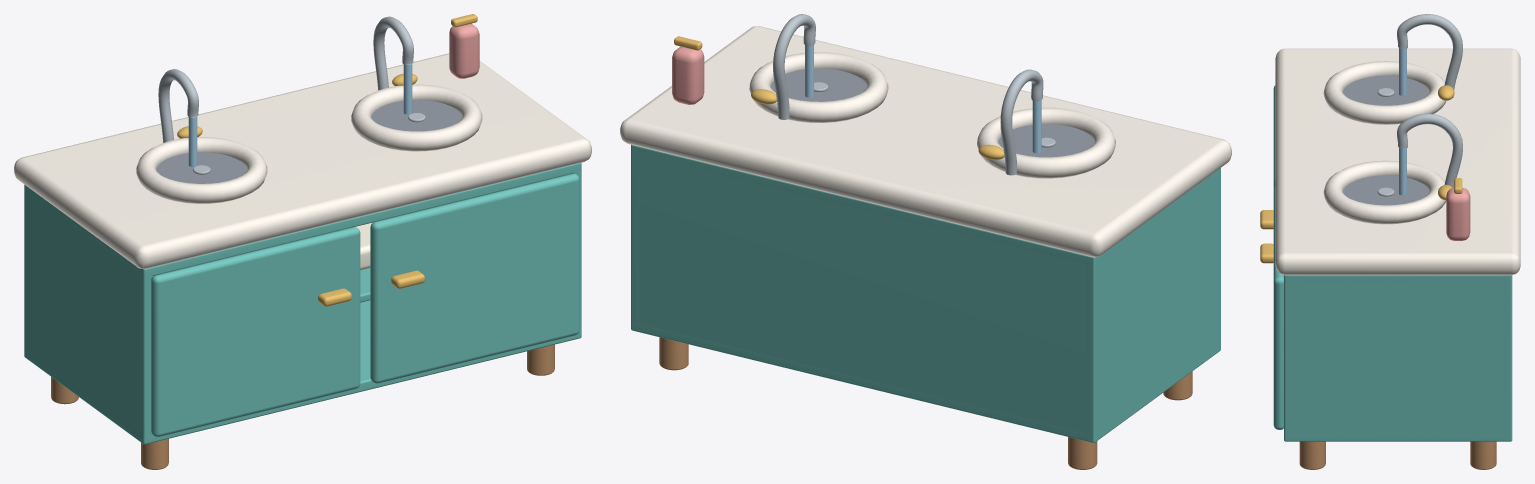
File: bathroomDoubleVanity.glb
3 renders of one model, left to right at view 1: azimuth 30°, elevation 25°; view 2: azimuth 150°, elevation 25°; view 3: azimuth 270°, elevation 25°, orthographic. The views are drawn at different scales.
Parts seen in each view (by area): view 1: Stone counter, Cabinet door.001, Cabinet door, Storage inner side, Porcelain basin rim.001, Porcelain basin rim, Storage inner floor.001, Storage inner floor, Basin recess, Basin recess.001, Soap bottle, Gooseneck faucet.001 (+3 smaller); view 2: Storage inner back, Stone counter, Storage inner side, Porcelain basin rim, Porcelain basin rim.001, Storage inner floor, Storage inner floor.001, Basin recess, Basin recess.001, Soap bottle, Gooseneck faucet, Gooseneck faucet.001 (+3 smaller); view 3: Stone counter, Storage inner side.001, Porcelain basin rim.001, Porcelain basin rim, Cabinet door.001, Basin recess.001, Basin recess, Storage inner floor, Storage inner floor.001, Gooseneck faucet, Storage inner back, Gooseneck faucet.001 (+7 smaller).
Boxes of the visible parts, x1,y1,x2,y2 form: Stone counter: (14, 53, 591, 268); Cabinet door.001: (370, 173, 579, 383); Cabinet door: (151, 227, 360, 436); Storage inner side: (24, 184, 152, 444); Porcelain basin rim.001: (351, 84, 482, 151); Porcelain basin rim: (136, 137, 267, 203); Storage inner floor.001: (32, 162, 581, 276); Storage inner floor: (25, 300, 581, 444); Basin recess: (156, 152, 247, 183); Basin recess.001: (371, 100, 461, 131); Soap bottle: (449, 23, 479, 78); Gooseneck faucet.001: (373, 16, 413, 90); Storage inner back: (631, 146, 1099, 442); Stone counter: (620, 26, 1231, 257); Storage inner side: (1086, 168, 1220, 442); Porcelain basin rim: (977, 107, 1115, 178); Porcelain basin rim.001: (749, 52, 888, 122); Storage inner floor: (631, 322, 1219, 442); Storage inner floor.001: (631, 145, 1219, 265); Basin recess: (998, 124, 1094, 157); Basin recess.001: (771, 68, 866, 101); Soap bottle: (672, 46, 704, 104); Gooseneck faucet: (1000, 69, 1043, 175); Gooseneck faucet.001: (773, 14, 815, 119); Stone counter: (1275, 48, 1520, 275); Storage inner side.001: (1284, 275, 1512, 441); Porcelain basin rim.001: (1323, 160, 1446, 224); Porcelain basin rim: (1323, 61, 1446, 124); Cabinet door.001: (1273, 187, 1283, 429); Basin recess.001: (1343, 175, 1429, 205); Basin recess: (1343, 75, 1429, 105); Storage inner floor: (1284, 434, 1510, 441); Storage inner floor.001: (1284, 275, 1511, 282); Gooseneck faucet: (1397, 14, 1462, 97); Storage inner back: (1503, 275, 1512, 441); Gooseneck faucet.001: (1397, 113, 1462, 187).
Bounding box in the file's own units: 2.08 × 1.43 × 1.08.
